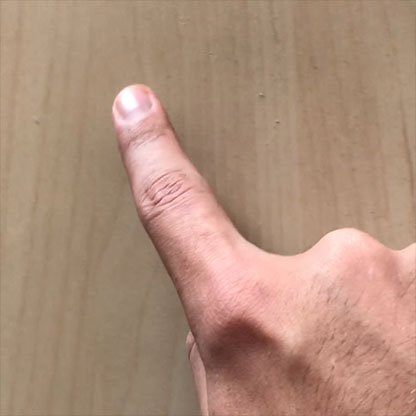fingertip: (104, 79, 181, 141)
